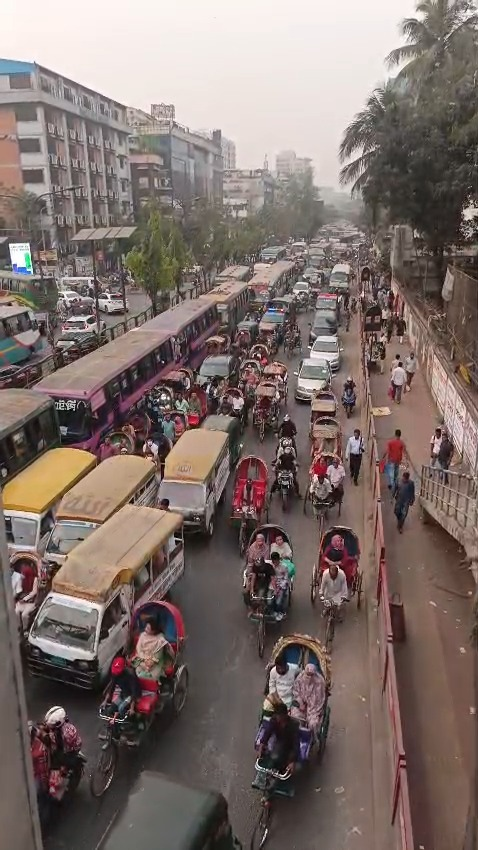Bikes: (13, 694, 104, 850), (268, 422, 305, 516), (341, 378, 361, 421)
Bus: (42, 317, 169, 428), (7, 360, 56, 478), (135, 292, 225, 344), (195, 269, 261, 320), (255, 254, 297, 307)
Leguna: (32, 497, 196, 683), (8, 445, 158, 530), (155, 419, 242, 546)
Pickup: (313, 286, 350, 315)
Police cars: (256, 295, 298, 339)
auto-ricksaw: (258, 634, 349, 840), (98, 597, 198, 773), (307, 524, 372, 647), (232, 514, 297, 622), (237, 341, 283, 417), (310, 452, 353, 514)
private car: (196, 341, 243, 388), (292, 353, 336, 401), (306, 329, 344, 372), (307, 311, 343, 351), (62, 315, 108, 339), (97, 286, 132, 317), (332, 260, 346, 293)
